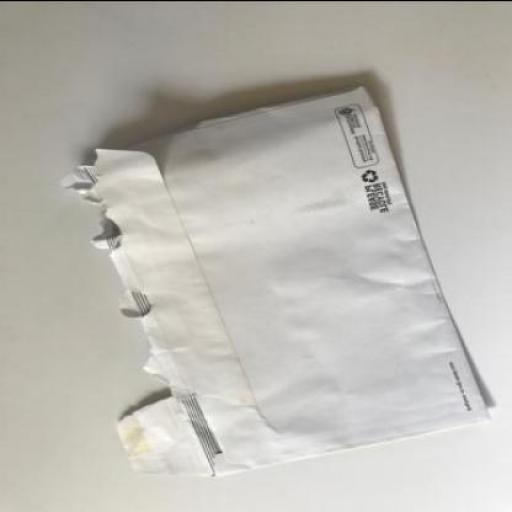paper: (69, 88, 493, 479)
